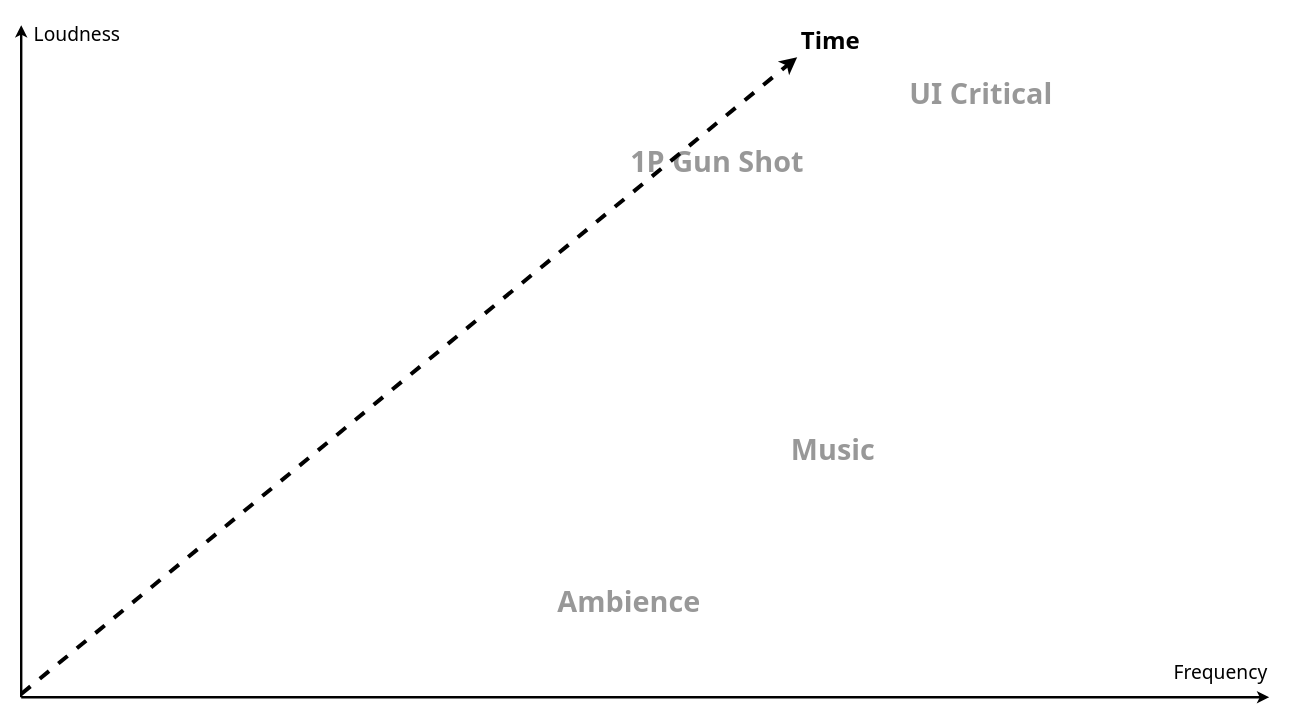
This 1290x718 diagram has some shape labels left out. Each missing label, with the centre of its shape:
3P Gun Shot: pixel 677 269
Explosion: pixel 353 345
